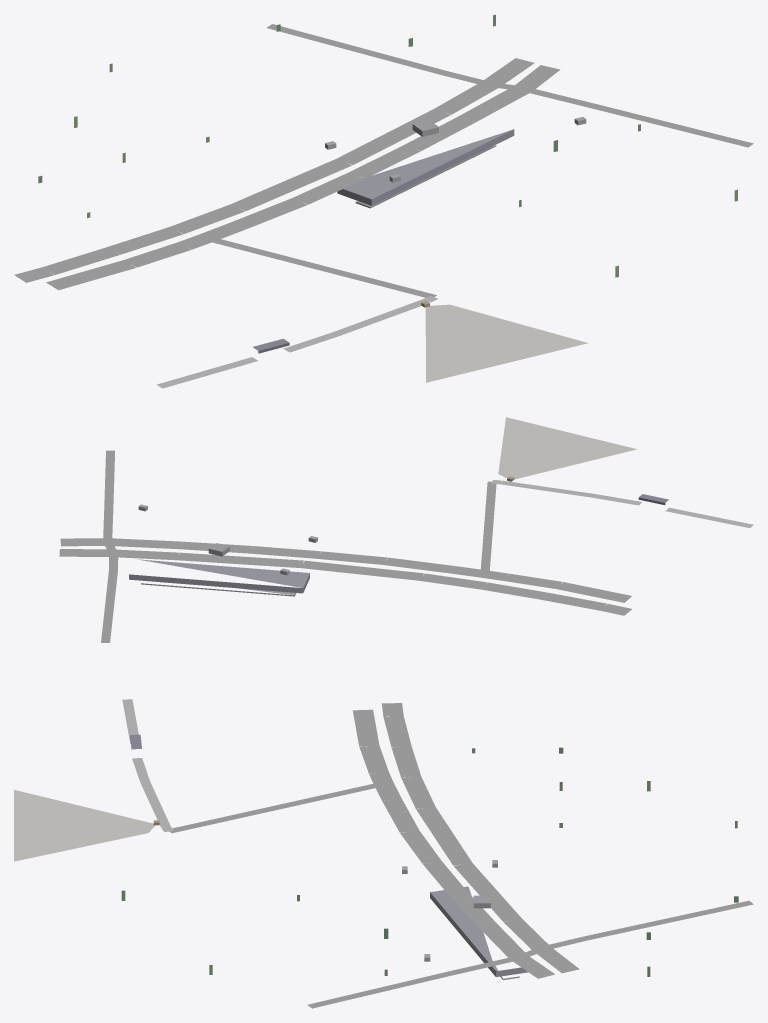
3 renders of one model, top to bottom at view 1: azimuth 30°, elevation 25°; view 2: azimuth 150°, elevation 25°; view 3: azimuth 270°, elevation 25°, orthographic. The views are drawn at different scales.
Bounding box in the file's own units: 499 × 38.04 × 507.
